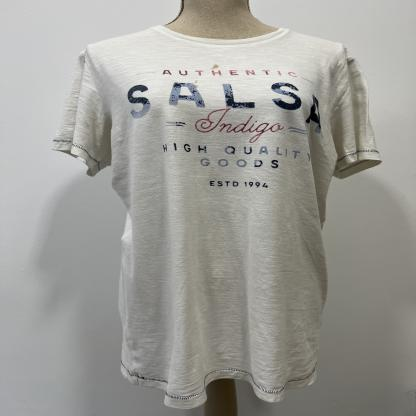stain: (210, 63, 221, 71), (190, 84, 200, 90), (193, 79, 199, 85)
